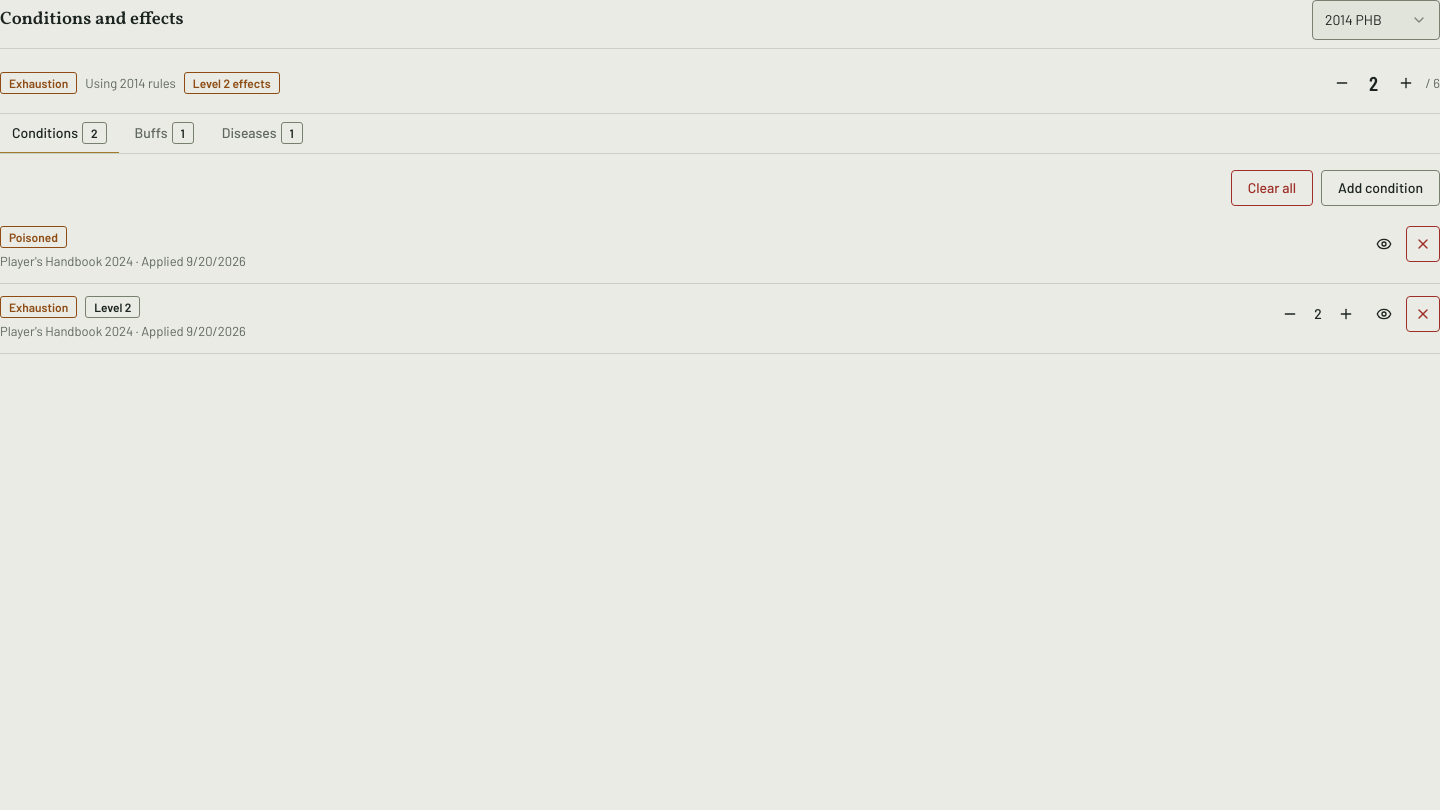
Scenario: ConditionsDiseasesManager effects › confirms disease clear and opens the add picker in a dialog
expect the heading "Conditions and effects" is shown: met, box [0,8,184,32]
Click the tab "Diseases 1" at [262, 134], box [210,114,315,154]
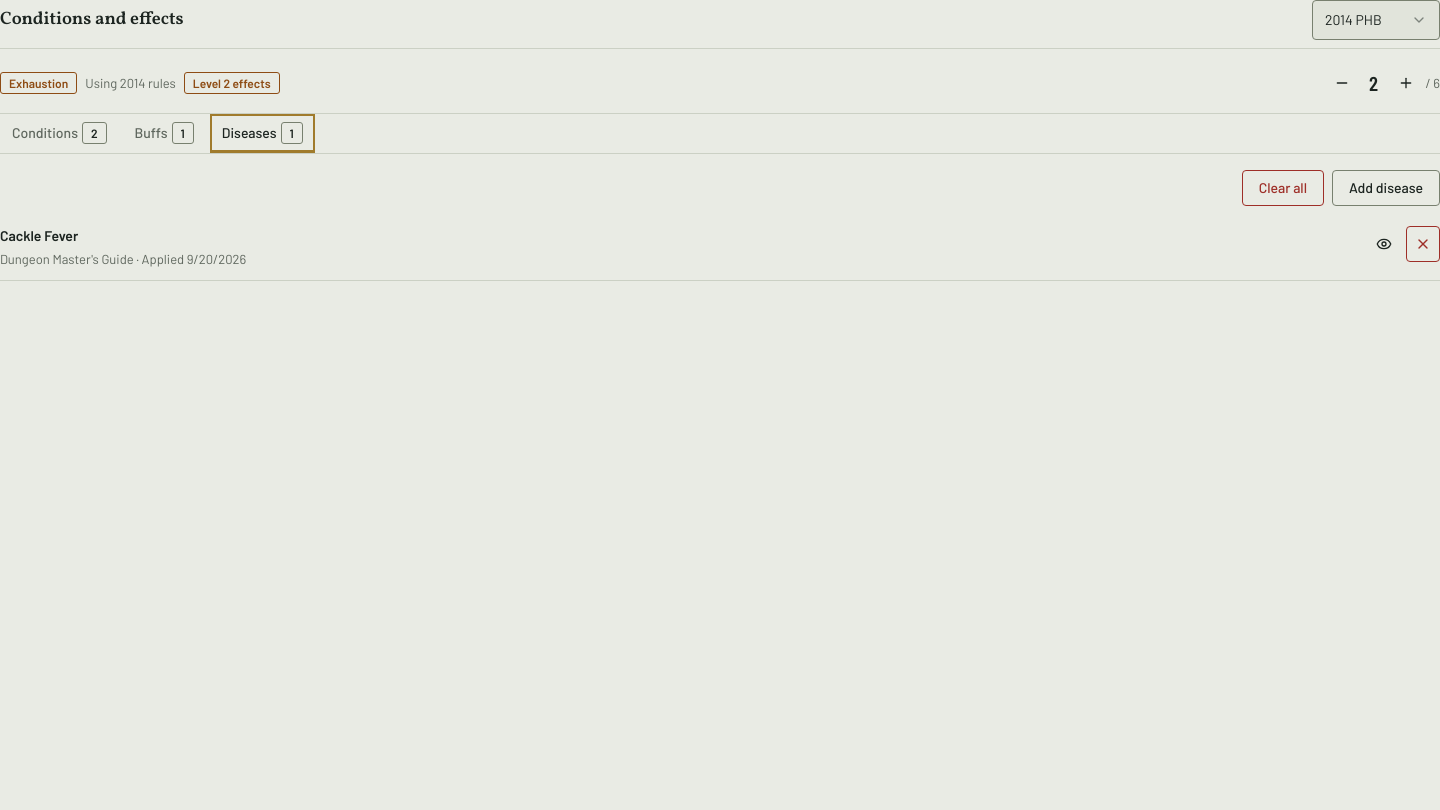
Click the button "Clear all" at [1283, 188], box [1242,170,1324,206]
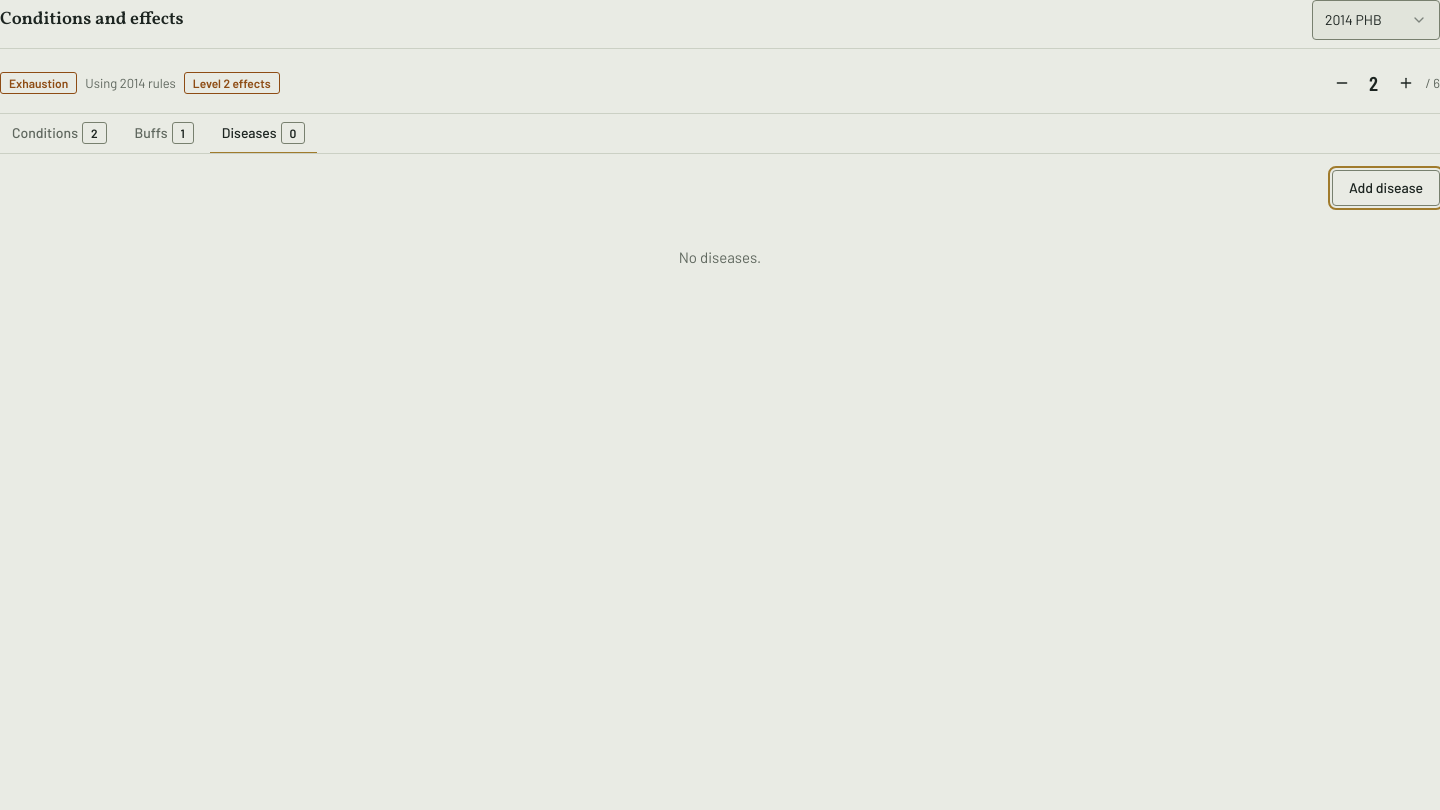
Click the button "Add disease" at [1386, 188], box [1332,170,1439,206]
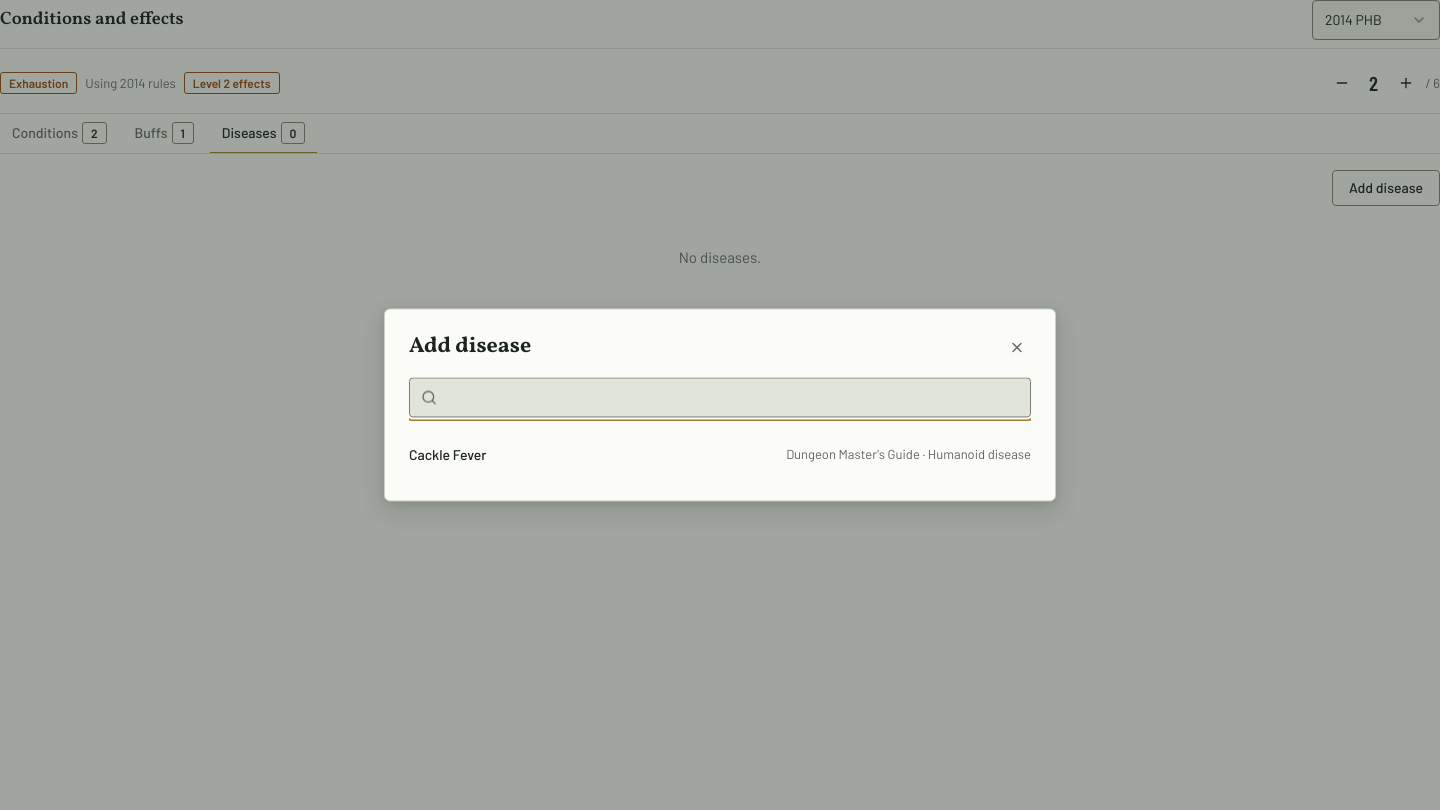
expect the dialog "Add disease" is shown: met, box [384,308,1056,502]
expect the field named "Search diseases" is shown: met
expect the text "Dungeon Master's Guide · Humanoid disease" is shown: met, box [786,445,1031,464]
Type "missing" into the field named "Search diseases" at [720, 397], box [409,377,1031,417]
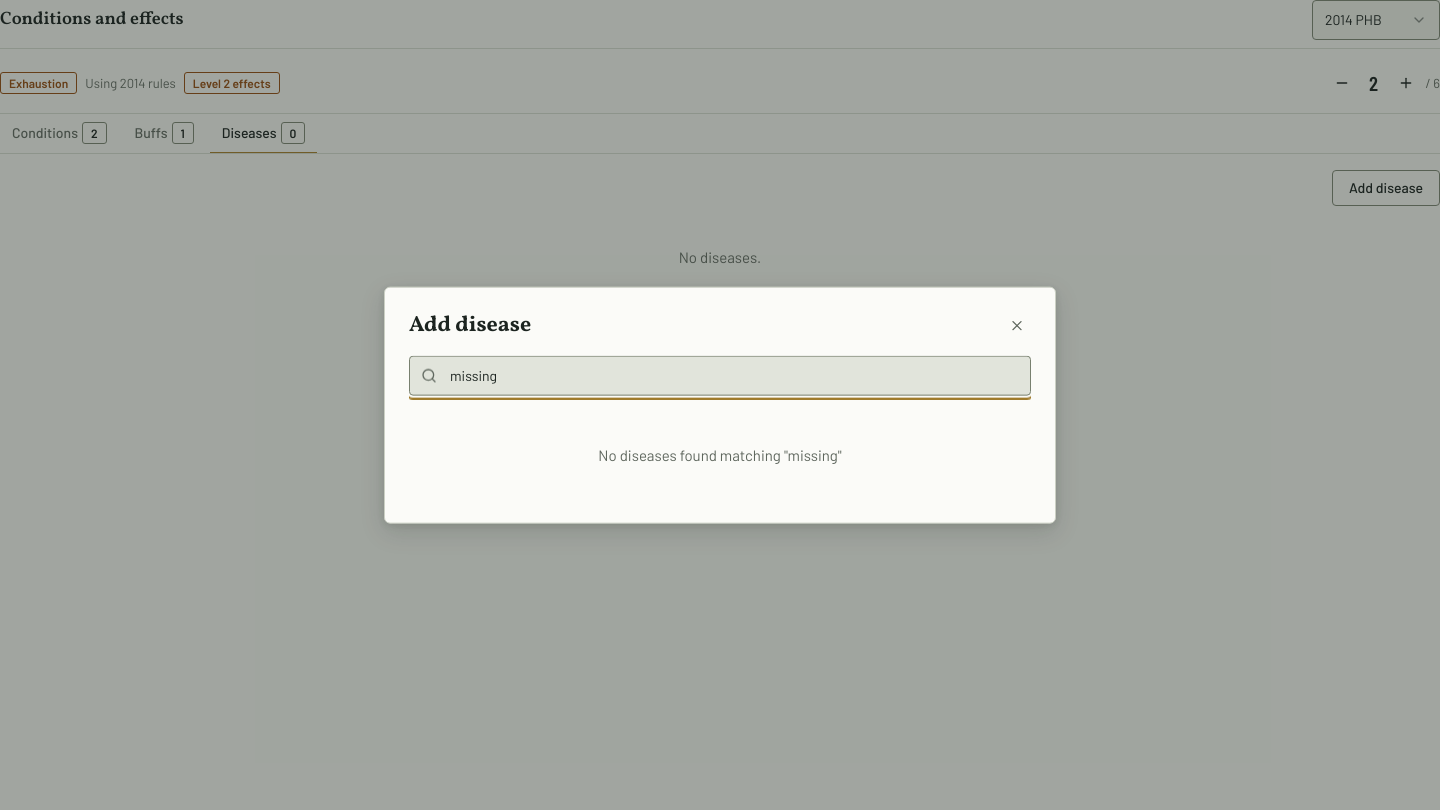
expect the text "No diseases found matching \"missing\"" is shown: met, box [598,445,842,463]
